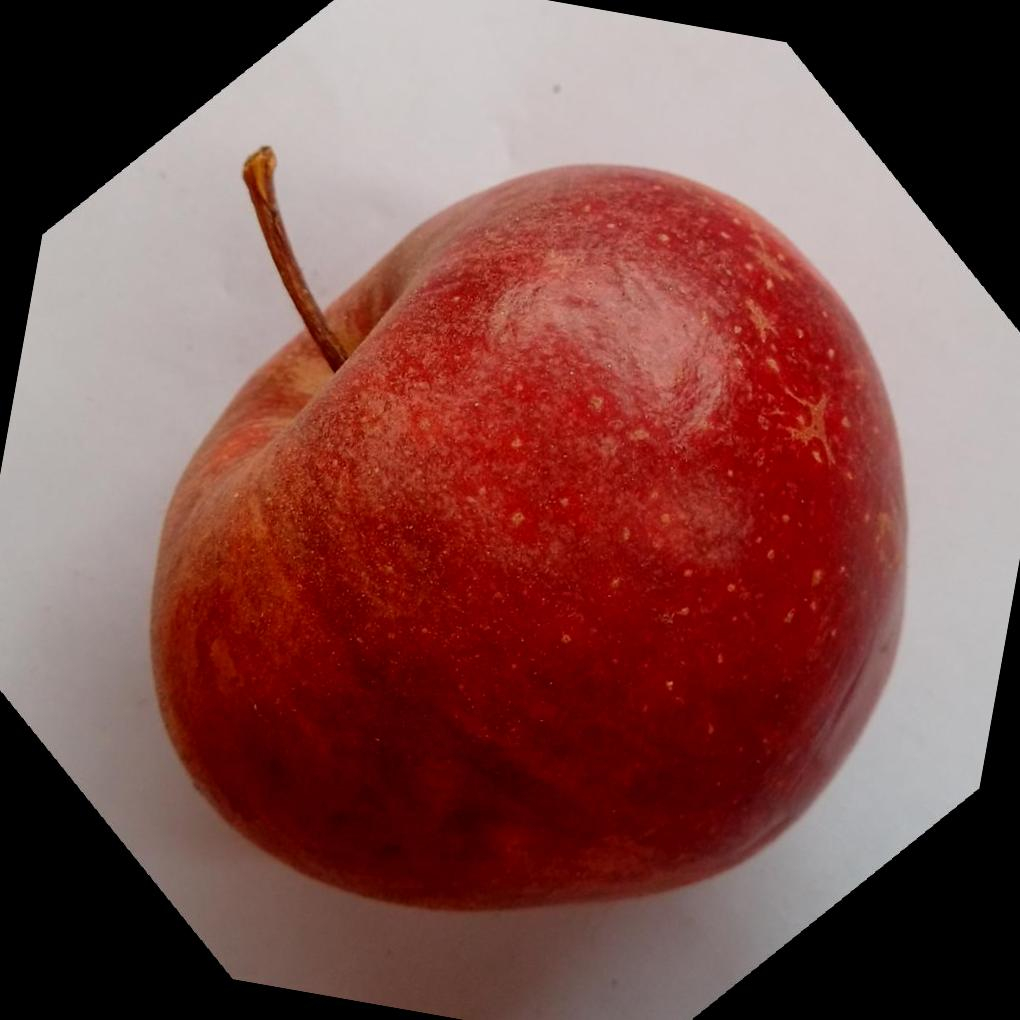FreshGuava: (146, 143, 911, 911)
